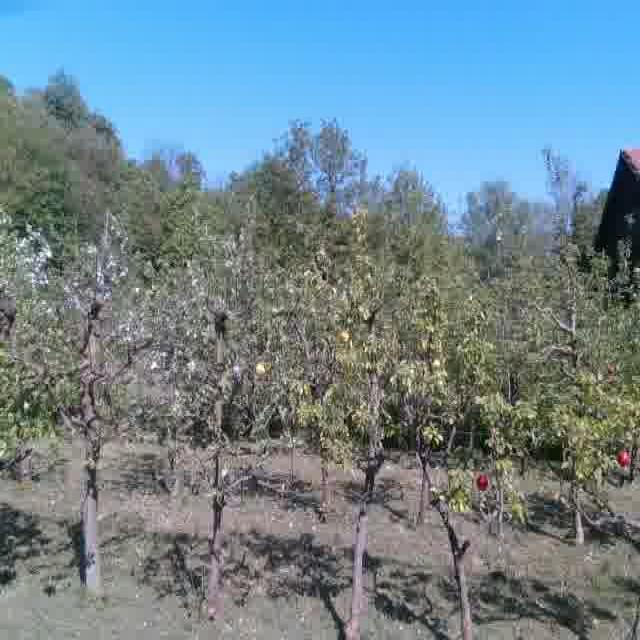red: (617, 447, 635, 470), (476, 473, 491, 490)
yellow: (253, 362, 268, 378)
